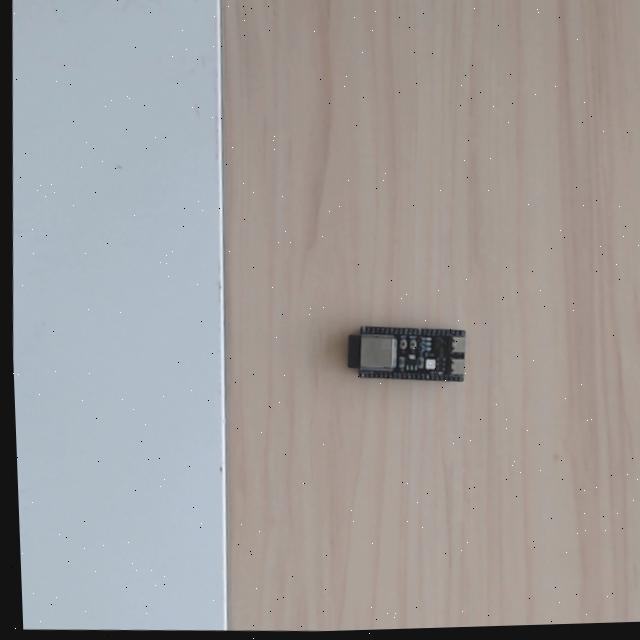ESP32S3-Devkit: (346, 323, 467, 383)
